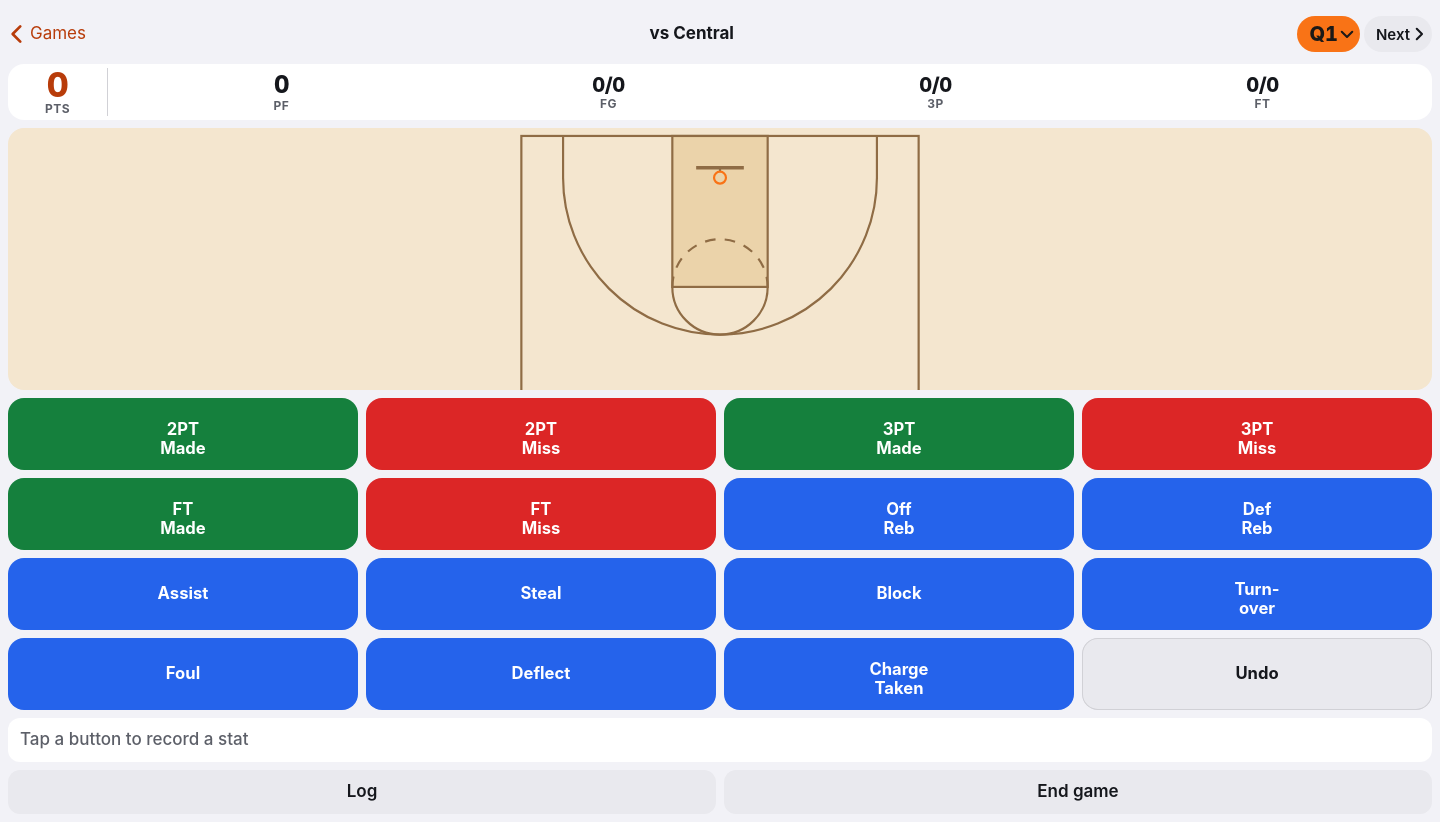
Test: TrackGameScreen › records a tap right away and updates the strip, the counts and the last-action line
expect the element named "Record a stat" is shown: met, box [8, 398, 1432, 710]
Click the button "3PT Made" at [899, 434], box [724, 398, 1074, 470]
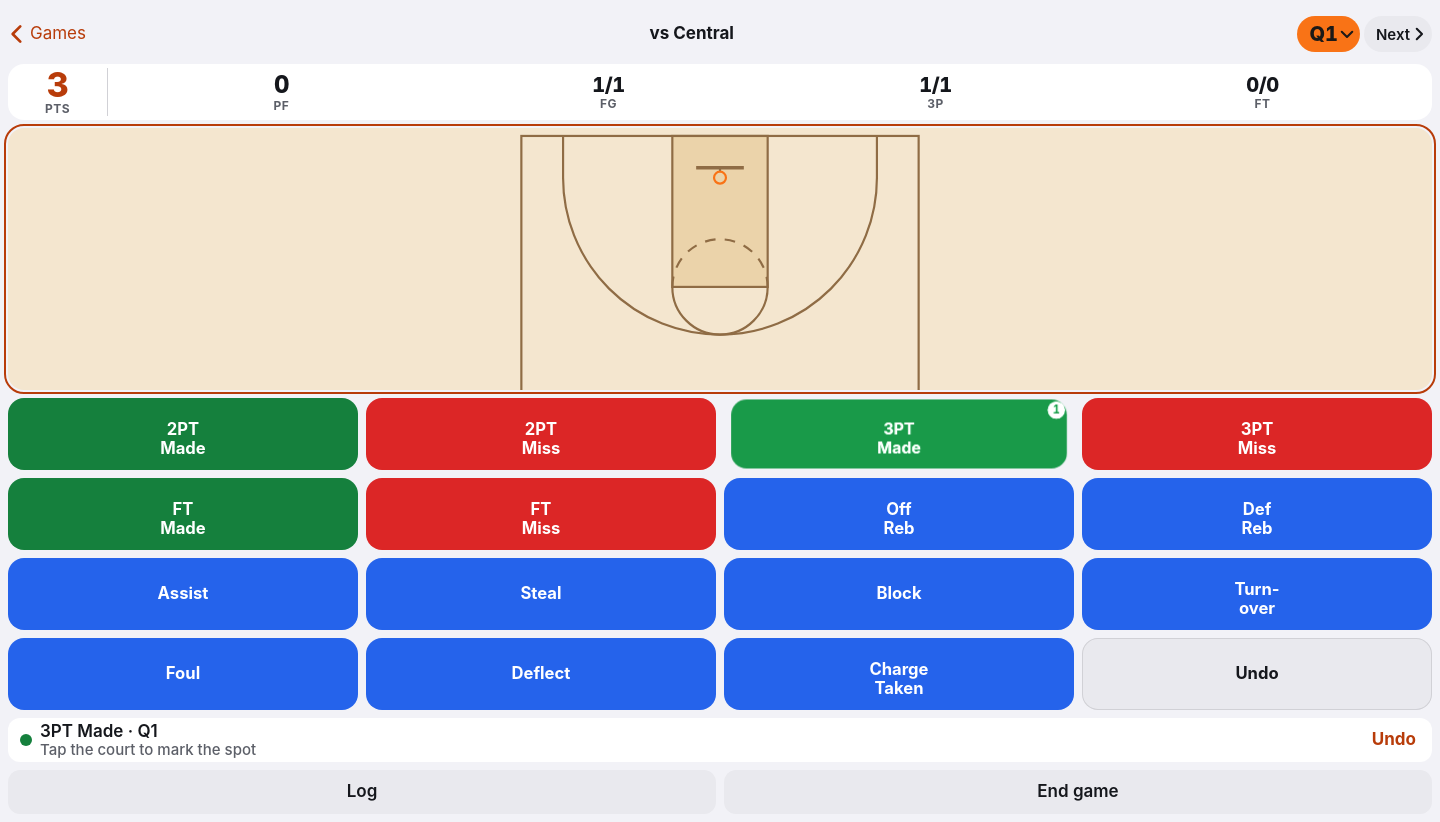
expect the message named "Last action" shows "3PT Made · Q1": met, box [40, 721, 158, 741]
Click the button "2PT Made" at [183, 434], box [8, 398, 358, 470]
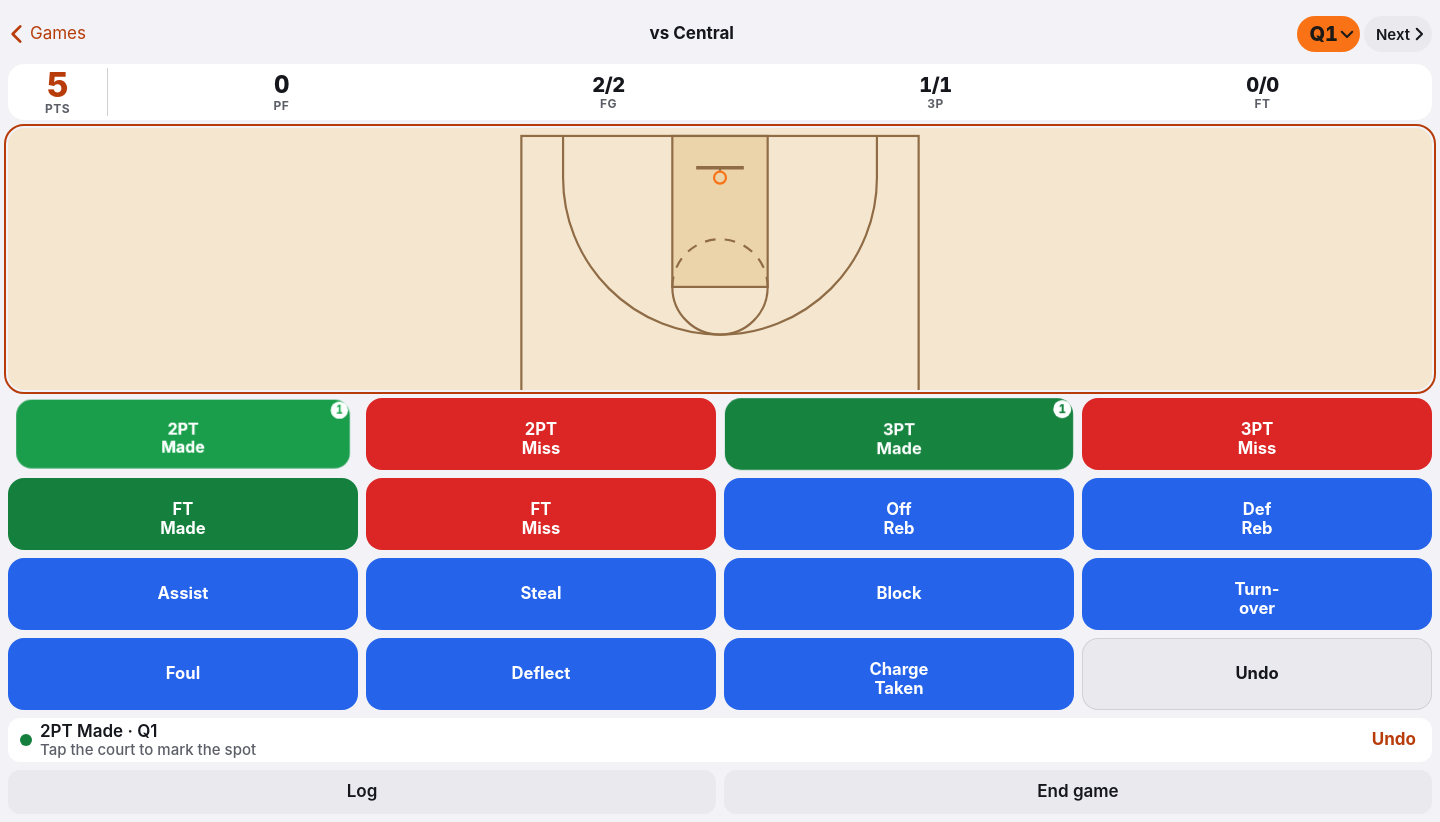
Click the button "2PT Made 1" at [183, 434], box [13, 399, 353, 469]
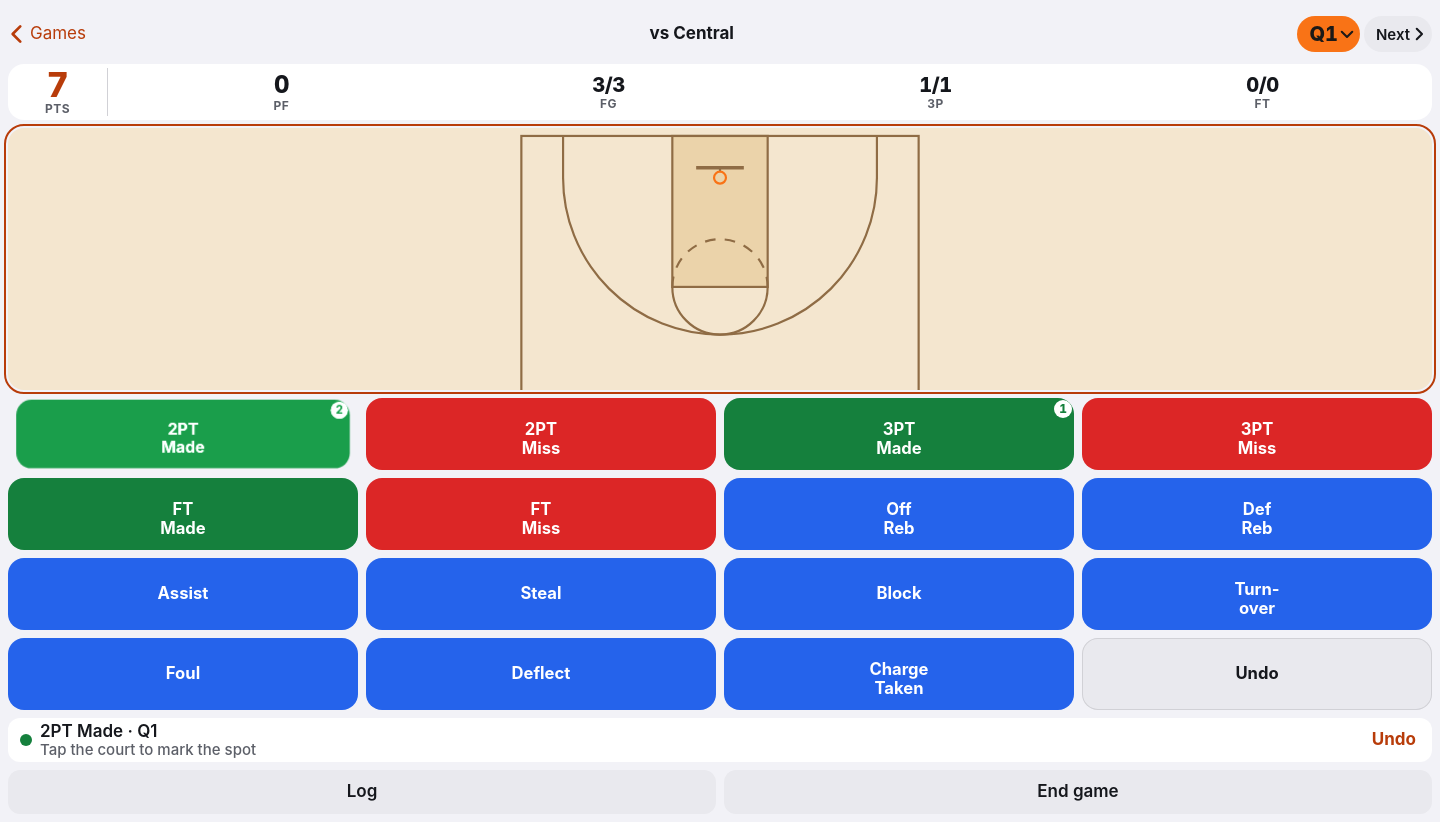
Click the button "FT Miss" at [541, 514], box [366, 478, 716, 550]
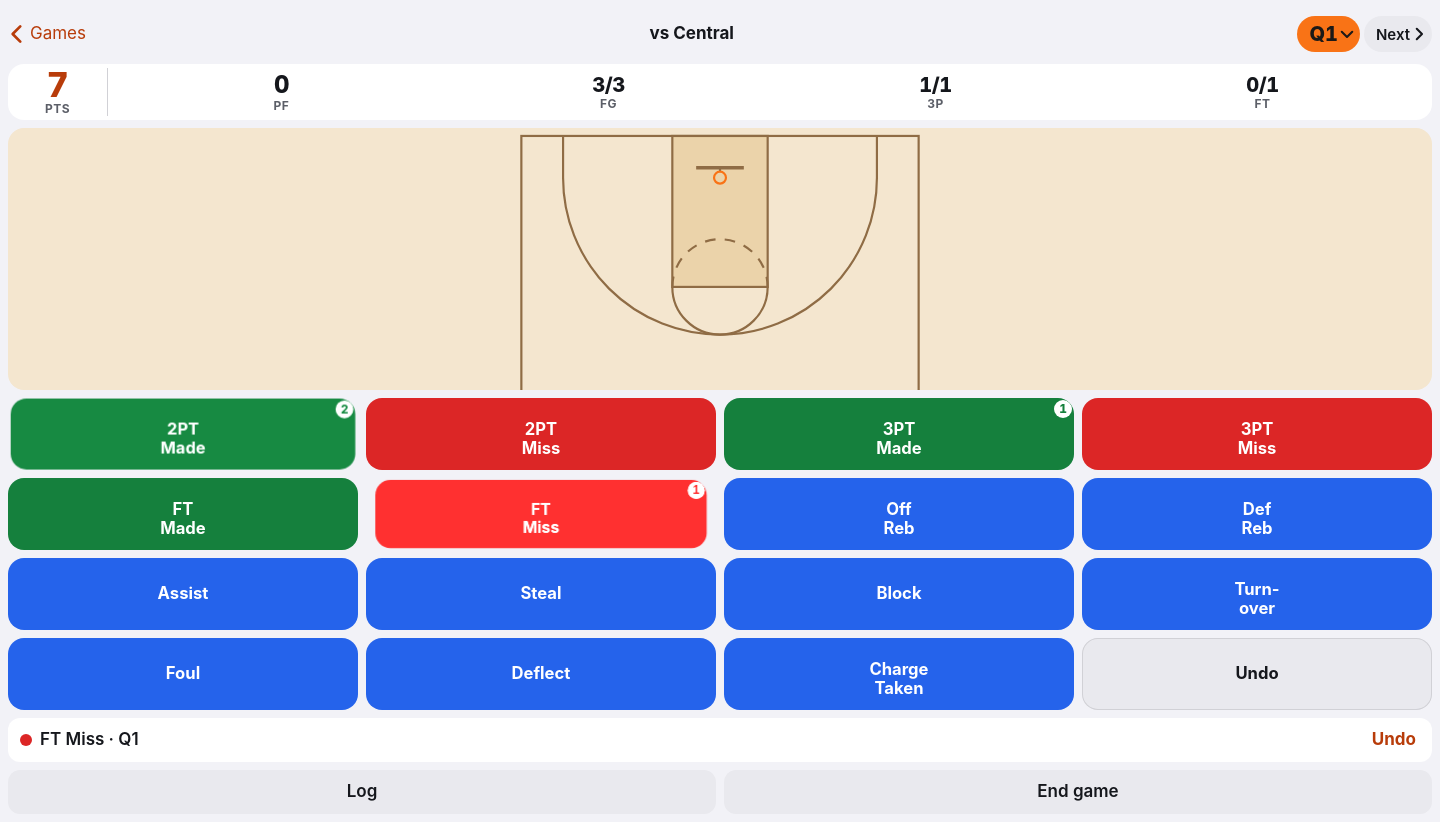
Click the button "Off Reb" at [899, 514], box [724, 478, 1074, 550]
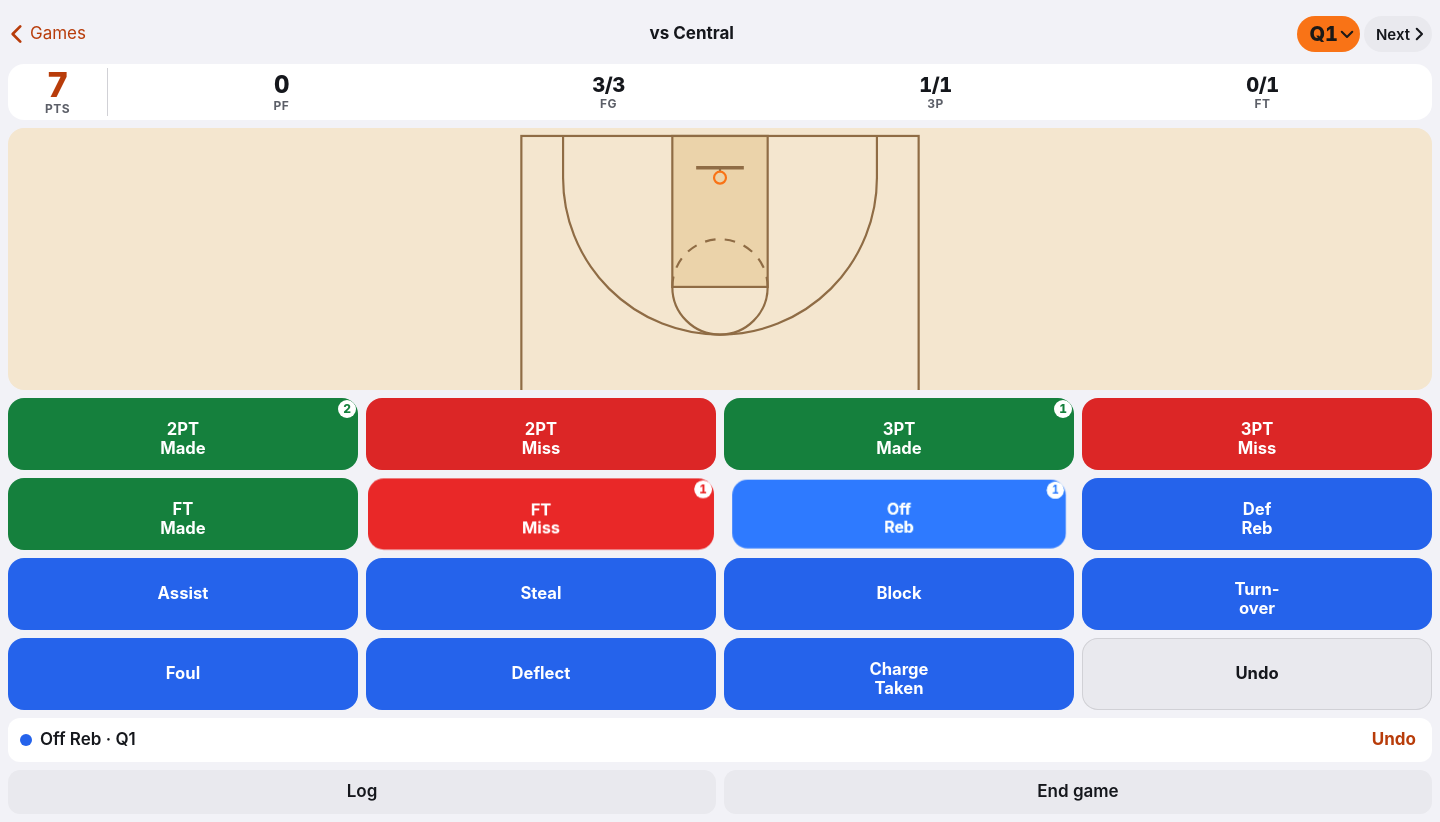
Click the button "Def Reb" at [1257, 514], box [1082, 478, 1432, 550]
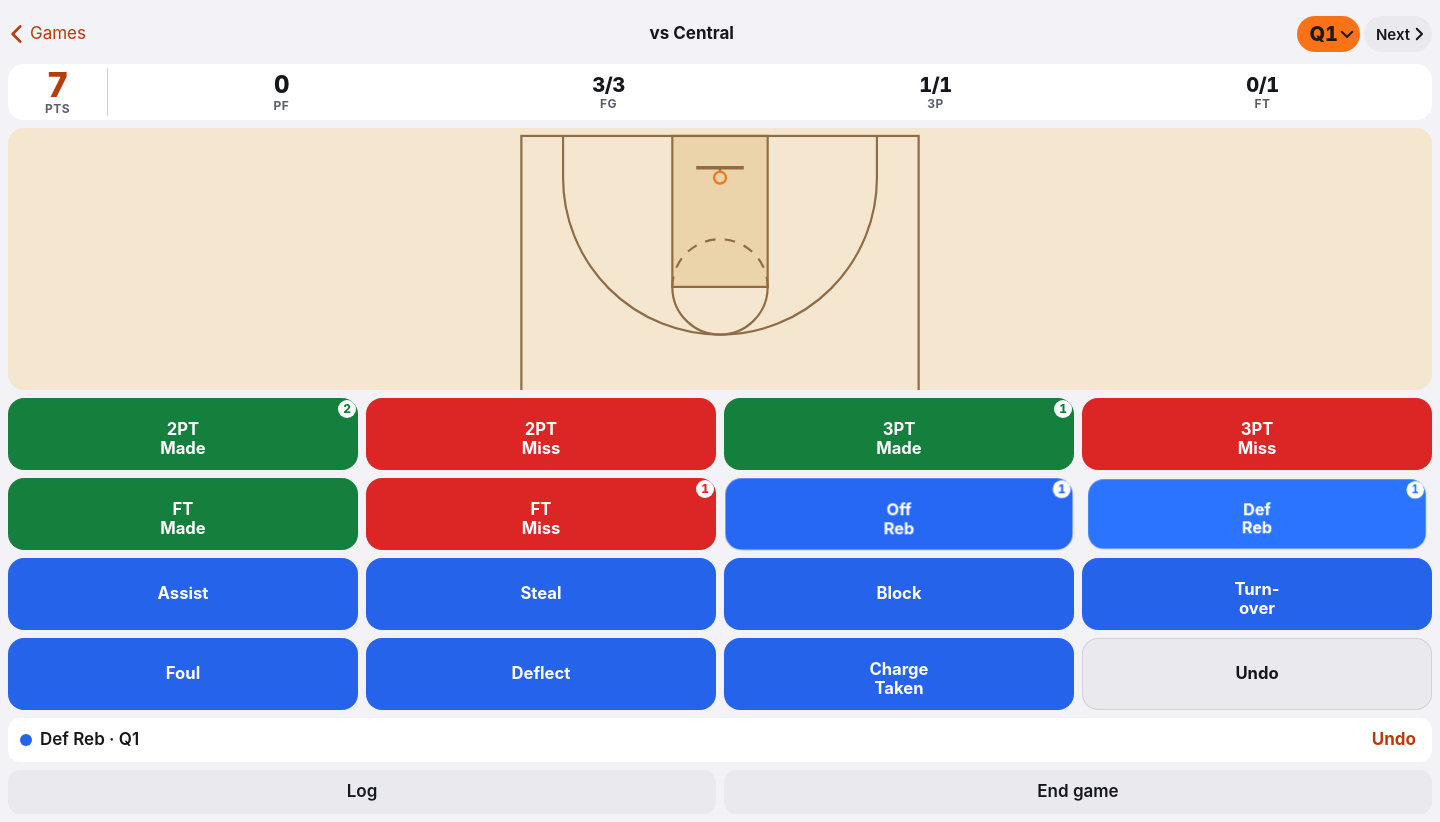
expect the message named "Last action" reads "Def Reb · Q1": met, box [40, 729, 139, 749]
